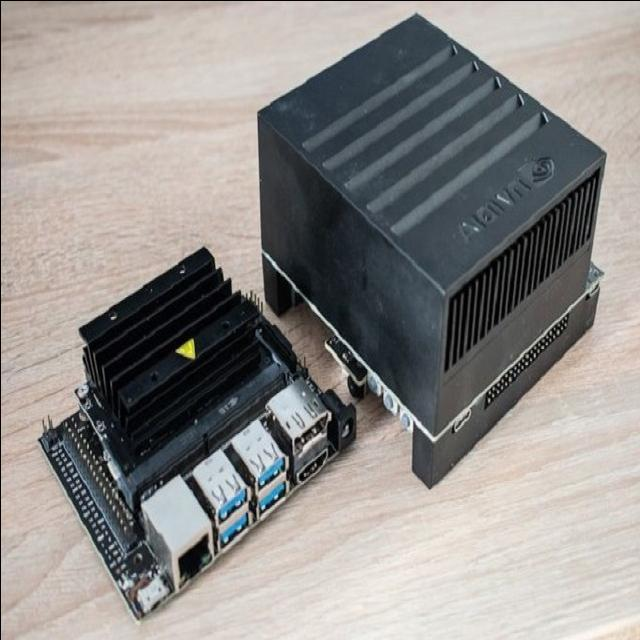Jetson Nano: (38, 246, 357, 622)
